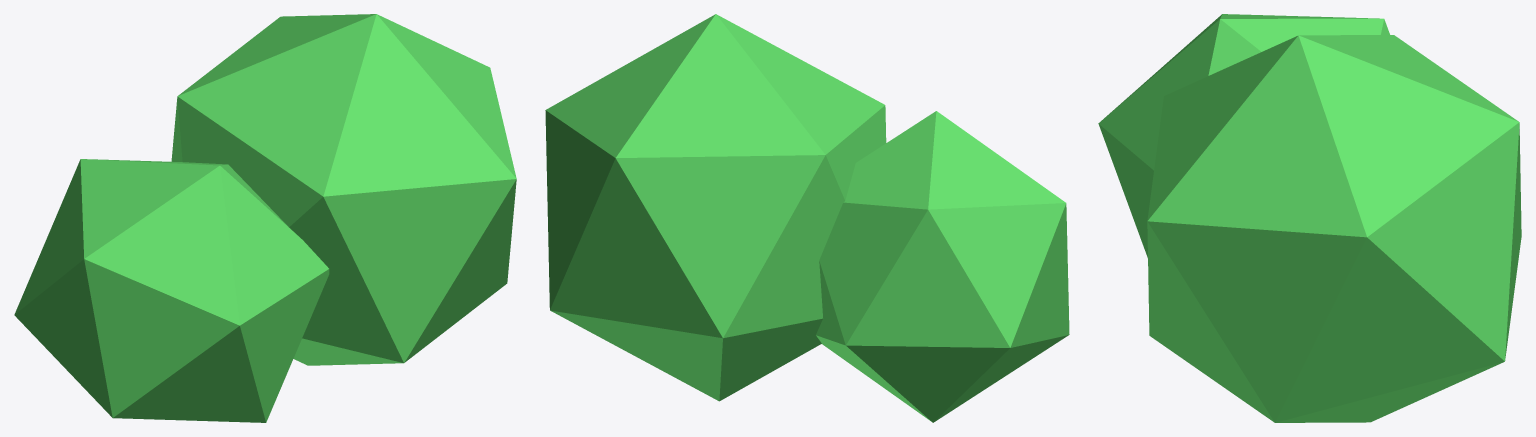
File: krzaczek3.gltf
The picture shows the model from 3 angles, left to right: view 1: azimuth 30°, elevation 25°; view 2: azimuth 150°, elevation 25°; view 3: azimuth 270°, elevation 25°; orthographic projection. The views are drawn at different scales.
Visible parts, largest first — view 1: Icosphere.019, Icosphere.020; view 2: Icosphere.019, Icosphere.020; view 3: Icosphere.019, Icosphere.020.
Boxes of the visible parts, x1,y1,x2,y2 form: Icosphere.019: (171,14,516,365); Icosphere.020: (14,159,329,422); Icosphere.019: (545,14,886,401); Icosphere.020: (816,111,1069,422); Icosphere.019: (1147,35,1521,422); Icosphere.020: (1098,14,1389,257).
Bounding box in the file's own units: 1.4 × 1.03 × 0.9708.
